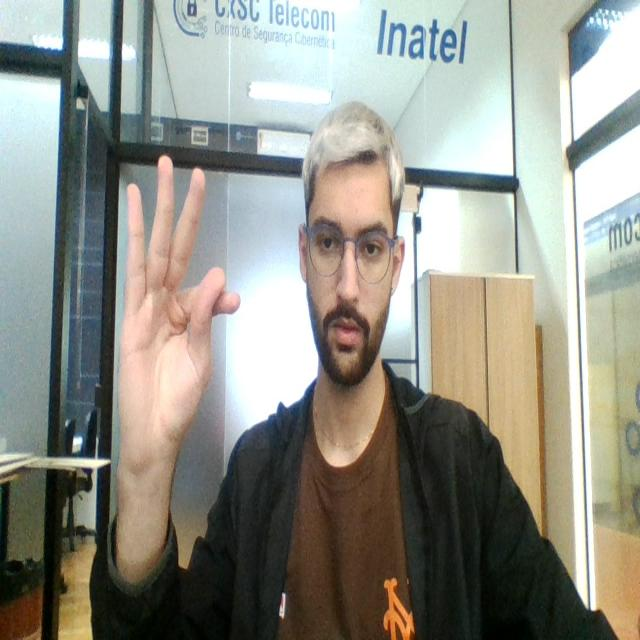T: (119, 140, 244, 452)
